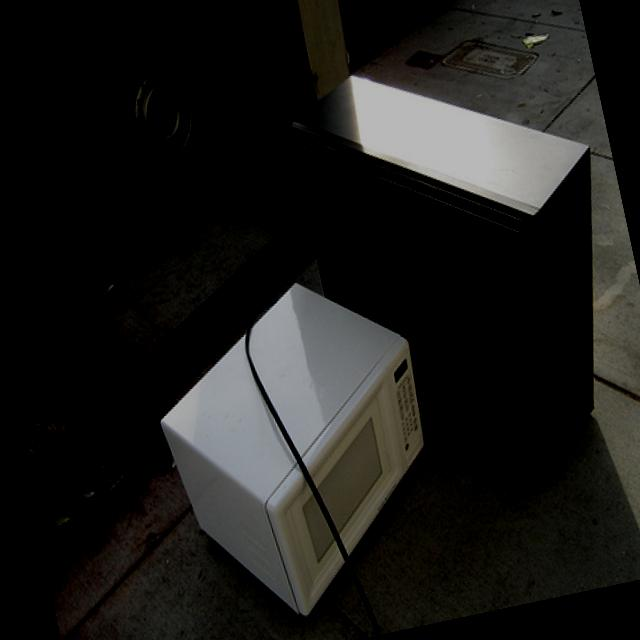Vehicle: (0, 18, 230, 214)
